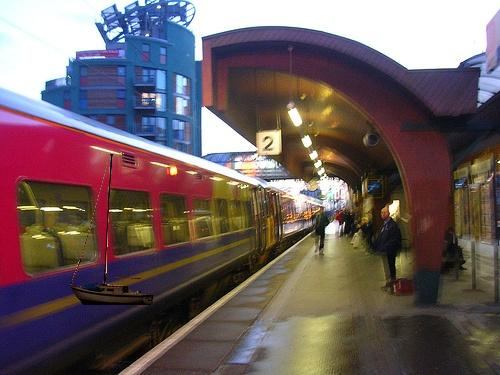tampered: (71, 155, 153, 305)
